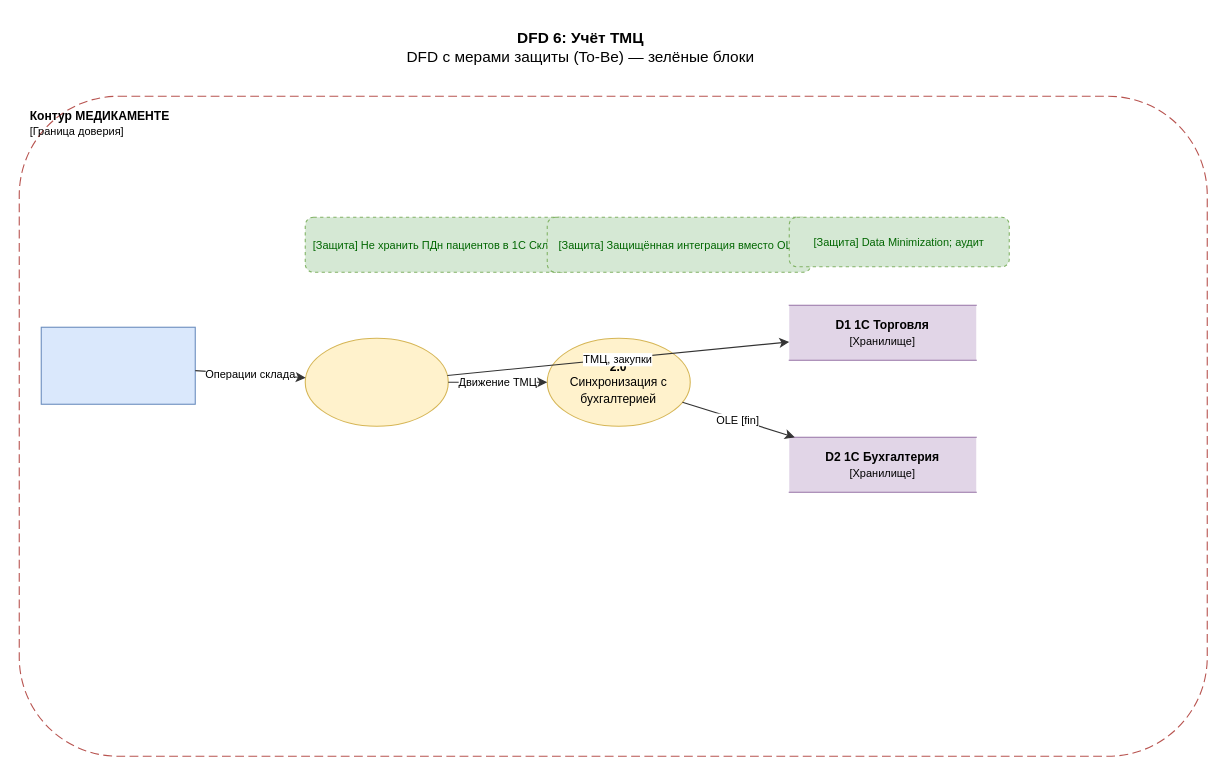
Image size: 1227x776. Some labels were removed from this diagram. Here are the shapes that lost their labels. From the top down, the centre of each, then its label:
At (117,365): "Склад [Внешняя сущность]".
At (376,381): "1.0 Учёт ТМЦ и закупок".
